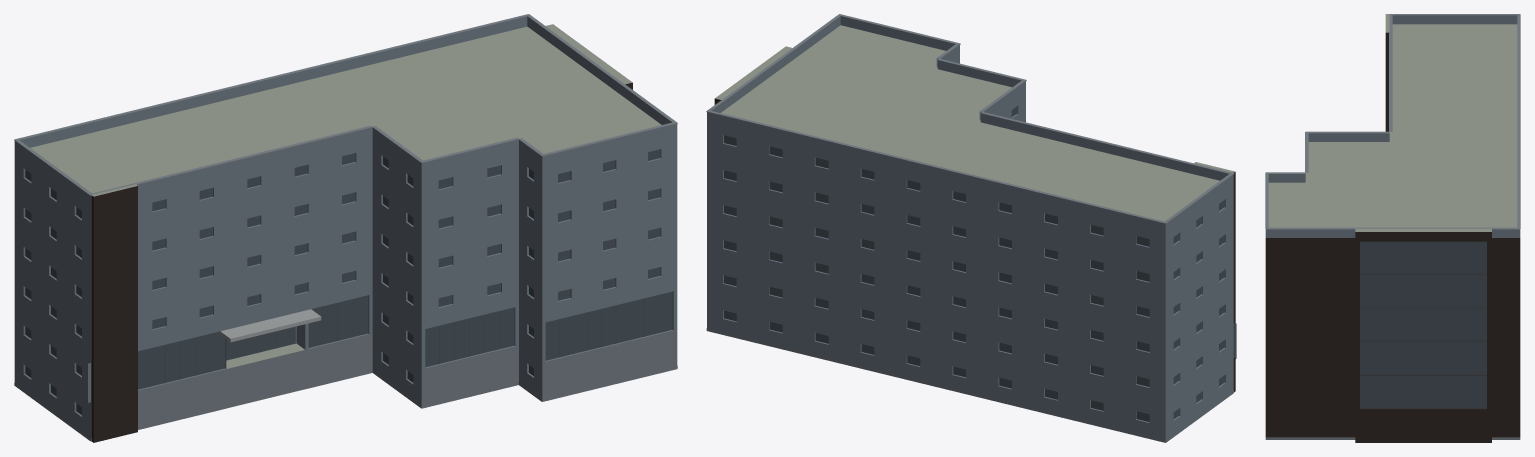
3 views of the same model, side by side, from view 1: azimuth 30°, elevation 25°; view 2: azimuth 150°, elevation 25°; view 3: azimuth 270°, elevation 25° (orthographic). The views are drawn at different scales.
Parts seen in each view (by area): view 1: ahnEaktai__wall, ahnEaktai__roof, ahnEaktai__glass, ahnEaktai__base, ahnEaktai__parapet, ahnEaktai__wall2, ahnEaktai__trim, ahnEaktai__canopy, ahnEaktai__frame; view 2: ahnEaktai__wall, ahnEaktai__roof, ahnEaktai__parapet, ahnEaktai__glass, ahnEaktai__trim, ahnEaktai__base, ahnEaktai__wall2; view 3: ahnEaktai__roof, ahnEaktai__wall2, ahnEaktai__glass, ahnEaktai__parapet, ahnEaktai__trim, ahnEaktai__frame, ahnEaktai__base.
Boxes of the visible parts, x1=… form: ahnEaktai__wall: x1=14, y1=133, x2=677, y2=440; ahnEaktai__roof: x1=30, y1=24, x2=661, y2=408; ahnEaktai__glass: x1=25, y1=149, x2=672, y2=414; ahnEaktai__base: x1=14, y1=330, x2=677, y2=441; ahnEaktai__parapet: x1=14, y1=16, x2=677, y2=205; ahnEaktai__wall2: x1=91, y1=82, x2=632, y2=442; ahnEaktai__trim: x1=14, y1=14, x2=677, y2=196; ahnEaktai__canopy: x1=220, y1=309, x2=321, y2=342; ahnEaktai__frame: x1=149, y1=295, x2=658, y2=386; ahnEaktai__wall: x1=707, y1=53, x2=1236, y2=442; ahnEaktai__roof: x1=715, y1=25, x2=1235, y2=442; ahnEaktai__parapet: x1=707, y1=16, x2=1233, y2=232; ahnEaktai__glass: x1=724, y1=107, x2=1224, y2=421; ahnEaktai__trim: x1=706, y1=14, x2=1234, y2=223; ahnEaktai__base: x1=706, y1=328, x2=1233, y2=442; ahnEaktai__wall2: x1=714, y1=98, x2=1235, y2=392; ahnEaktai__roof: x1=1268, y1=14, x2=1517, y2=231; ahnEaktai__wall2: x1=1265, y1=32, x2=1520, y2=442; ahnEaktai__glass: x1=1360, y1=241, x2=1486, y2=408; ahnEaktai__parapet: x1=1265, y1=15, x2=1520, y2=237; ahnEaktai__trim: x1=1265, y1=14, x2=1520, y2=229; ahnEaktai__frame: x1=1360, y1=272, x2=1486, y2=374; ahnEaktai__base: x1=1265, y1=437, x2=1520, y2=439.
Size of the model in its own units: 53.15 by 23.85 by 26.18.
